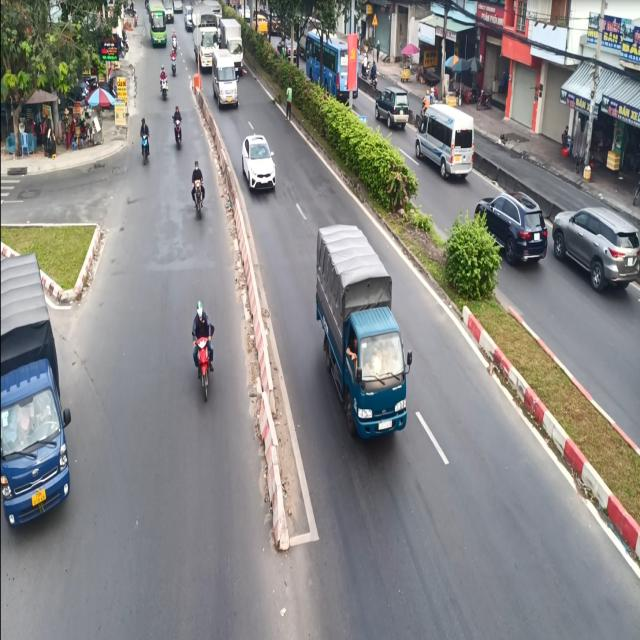car: (240, 120, 280, 203)
motor: (188, 296, 215, 406), (136, 114, 155, 181), (190, 157, 209, 222), (172, 106, 185, 158)
truck: (316, 213, 416, 452), (0, 244, 76, 531)
